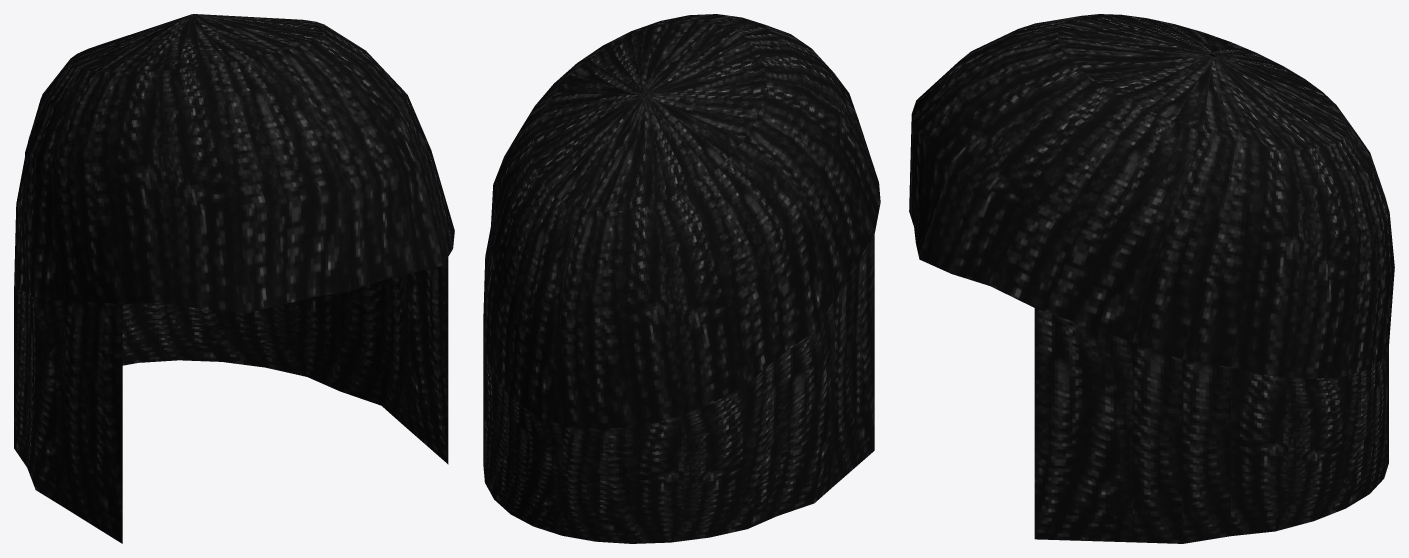
Rendered from hair_aksum_male_02.dae.
The picture shows the model from 3 angles, left to right: view 1: azimuth 30°, elevation 25°; view 2: azimuth 150°, elevation 25°; view 3: azimuth 270°, elevation 25°; orthographic projection. The views are drawn at different scales.
Visible parts, largest first — view 1: a_hair_aksum_male_02; view 2: a_hair_aksum_male_02; view 3: a_hair_aksum_male_02.
Part boxes in pixels (left/top/right/bottom): a_hair_aksum_male_02: left=14, top=14, right=454, bottom=543; a_hair_aksum_male_02: left=483, top=14, right=880, bottom=543; a_hair_aksum_male_02: left=909, top=14, right=1394, bottom=543.
Bounding box in the file's own units: 0.4736 × 0.5973 × 0.5795.
